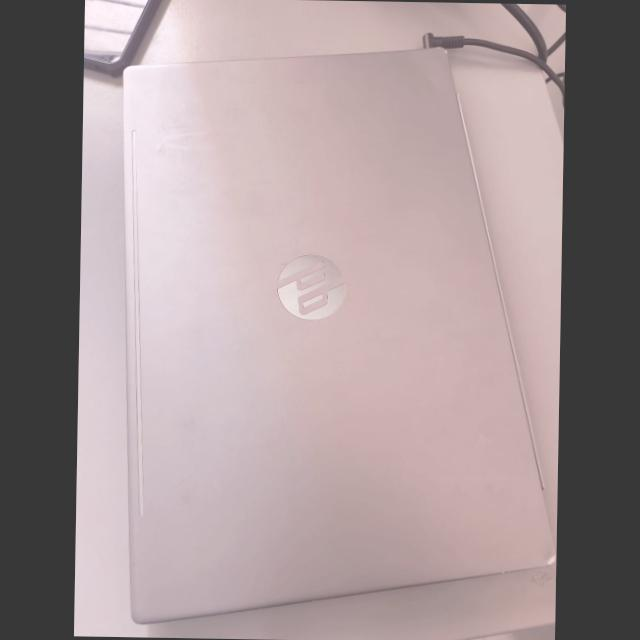laptop: (94, 12, 562, 610)
